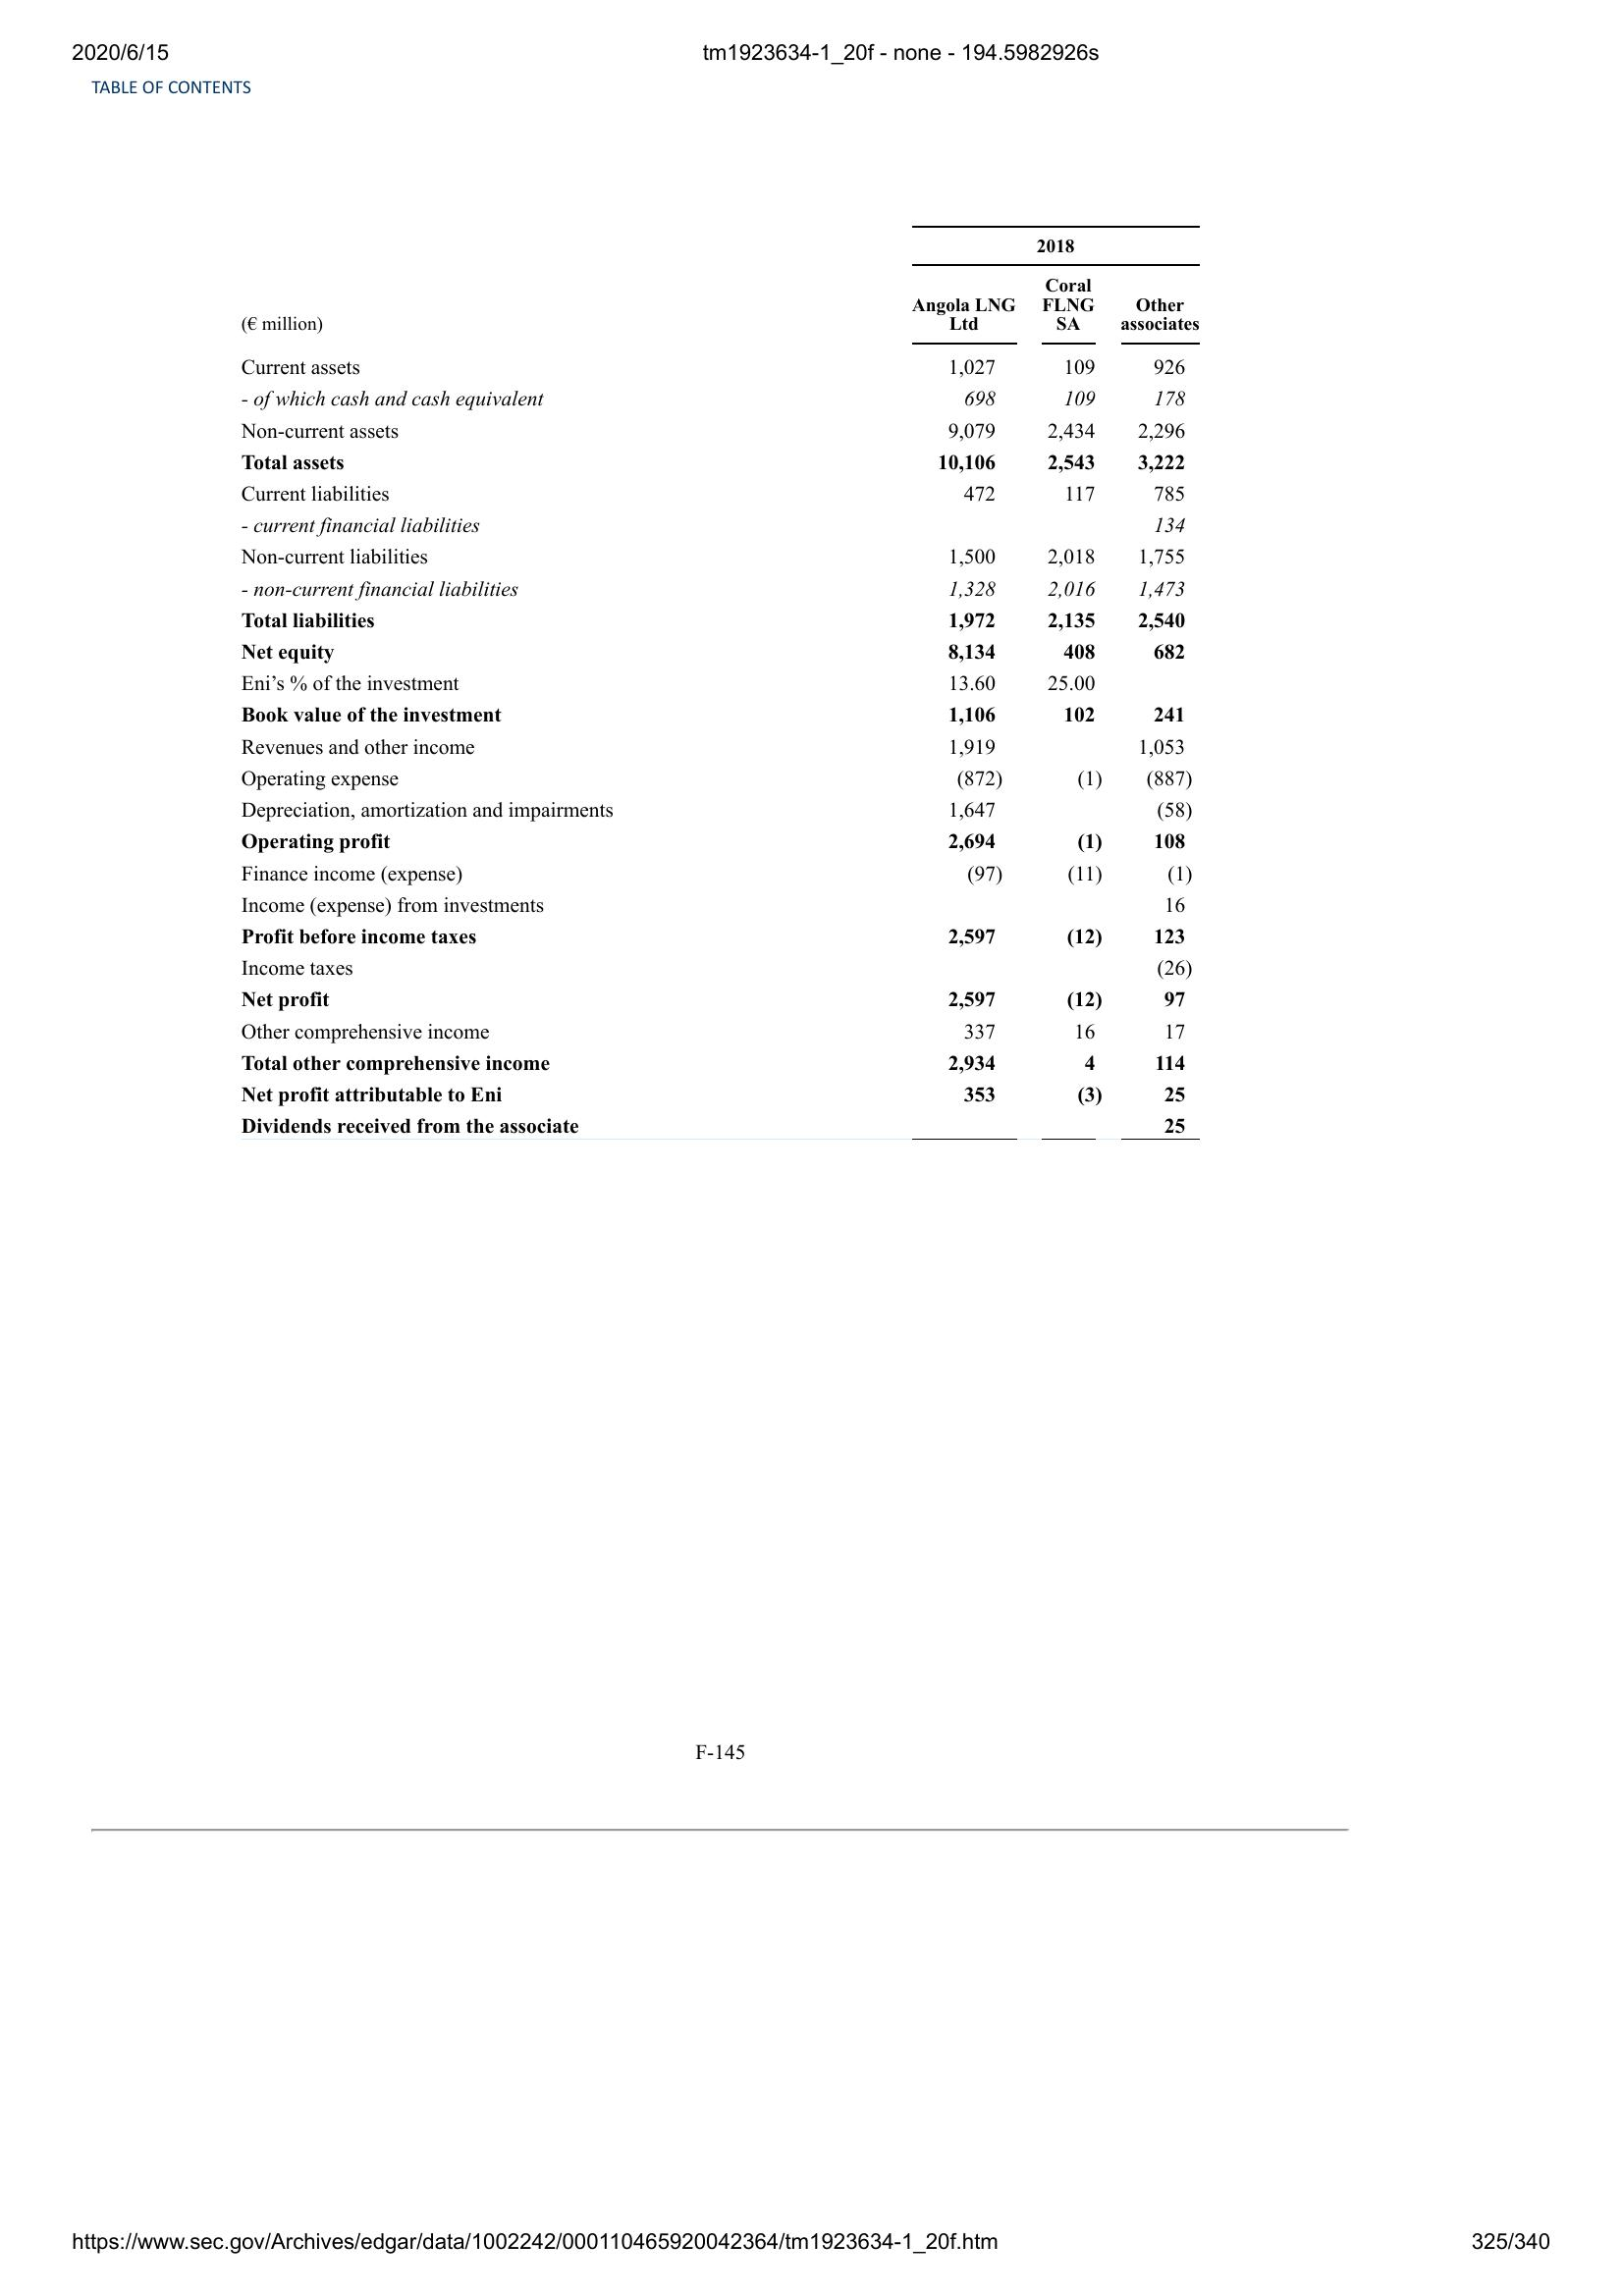table: (235, 218, 1208, 1143)
